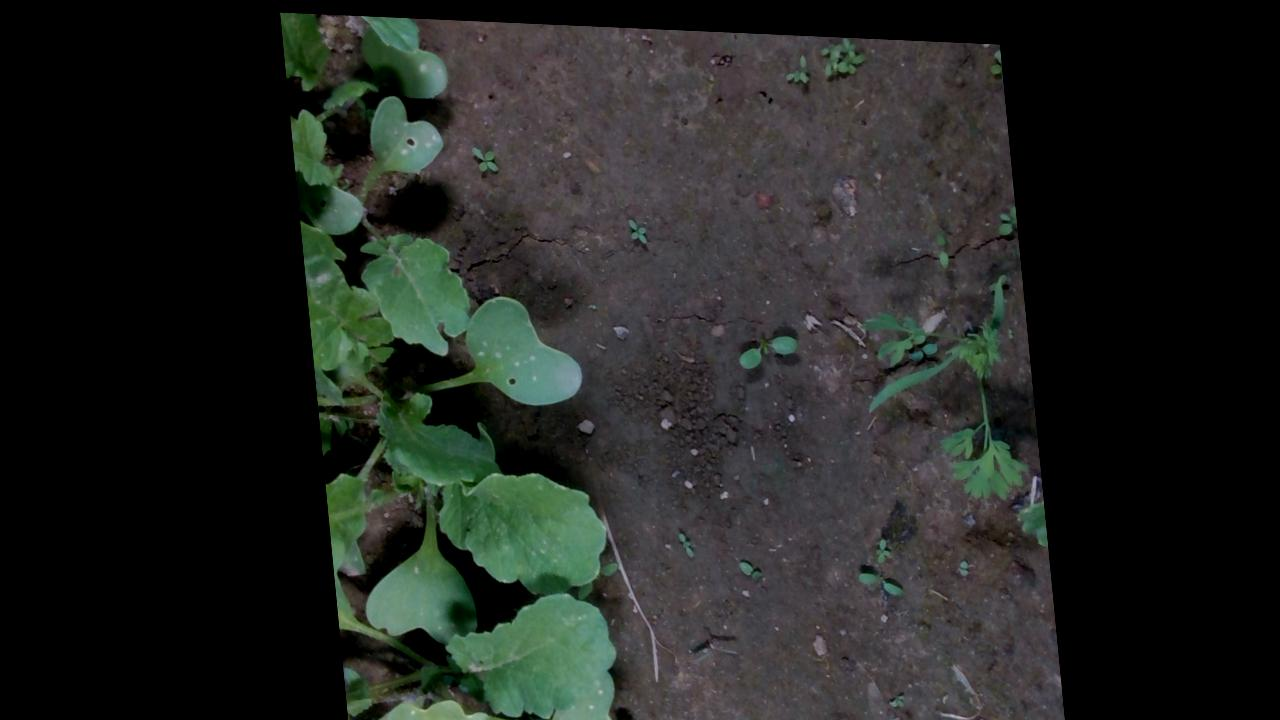weed: (622, 212, 644, 241)
